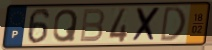4: (108, 6, 130, 44)
6: (26, 7, 51, 46)
B: (78, 7, 106, 44)
D: (158, 5, 187, 44)
Q: (51, 8, 80, 44)
X: (131, 6, 162, 44)
